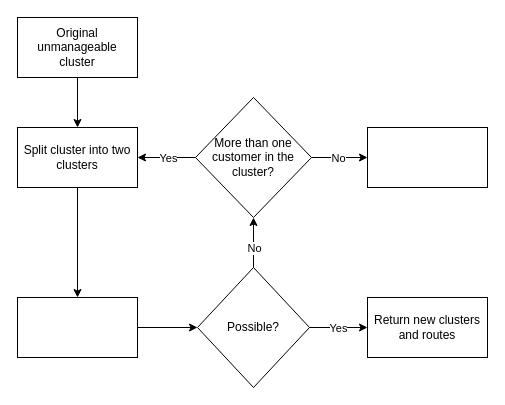
The diagram is 505 pixels wide and 405 high, and some of its shapes have lost their labels. Here are the shapes that lost their labels. From the top down, the centre of each, then its label:
the point at 427,157: Customer cannot be delivered to
the point at 77,327: Apply path finding algorithm to new clusters
